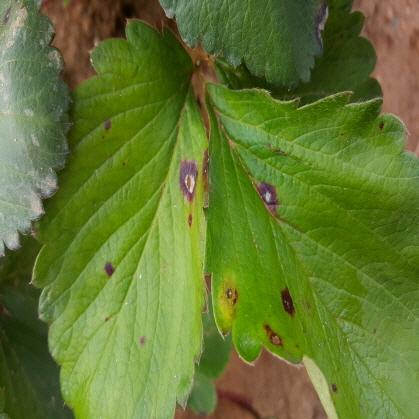Leaf Spot: (201, 81, 418, 418), (29, 18, 208, 418), (159, 0, 328, 89)
